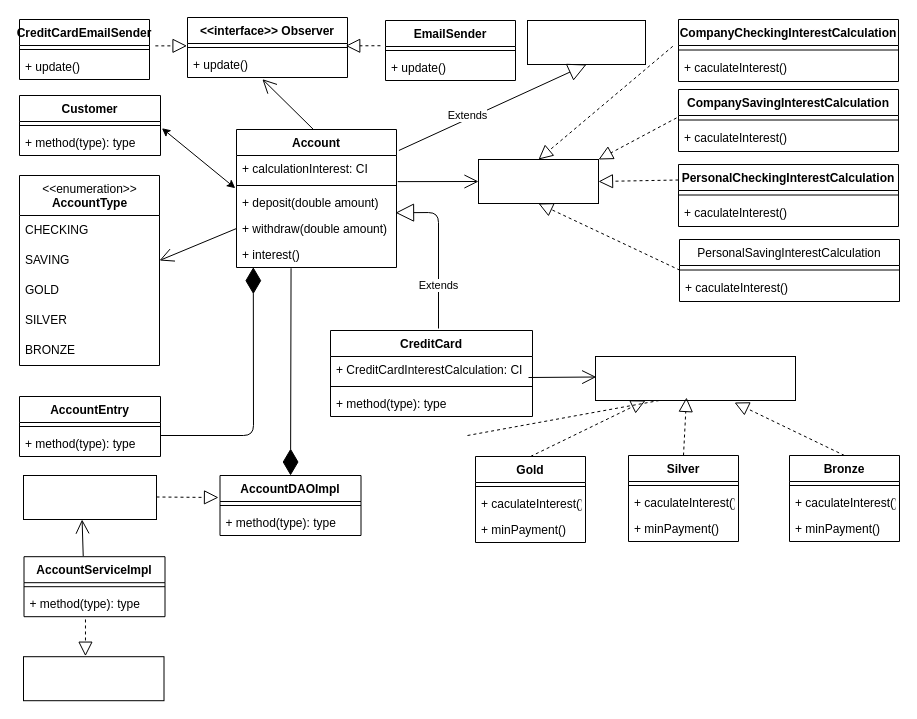
Image size: 917x719. Some labels were removed from this diagram. The centre of each missing label's shape, as x and y in pixels:
"«interface» AccountDAO" belongs at point (89, 497).
"«interface» AccountService" belongs at point (93, 678).
"«interface» CreditCardInterestCalculation" belongs at point (695, 378).
"«interface» InterestCalculation" belongs at point (538, 181).
"«interface» Observable" belongs at point (586, 42).
